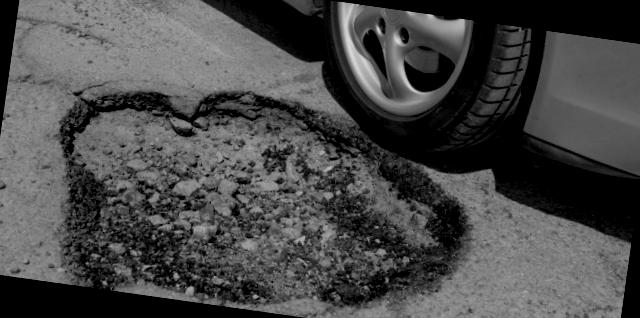Pothole: (0, 66, 485, 318)
